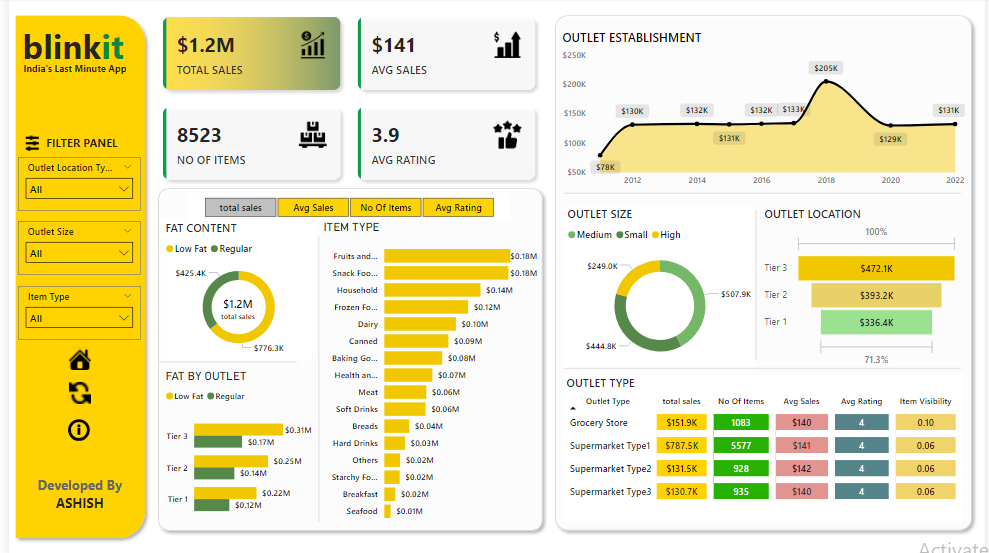

The page's visual inventory and layout, read from the dashboard file:
{"tool":"powerbi","page":{"name":"Page 1","canvas":[1400,800],"ordinal":0},"visuals":[{"type":"shape","box":[0,16.3,204.1,767.3],"z":0},{"type":"textbox","box":[14.9,29.7,171.6,85.1],"z":1000},{"type":"textbox","box":[16.2,87.8,168.9,27],"z":2000},{"type":"cardVisual","fields":{"Data":["BlinkIT Grocery Data.total sales","BlinkIT Grocery Data.Avg Sales","BlinkIT Grocery Data.No Of Items","BlinkIT Grocery Data.Avg Rating"]},"box":[204,9.6,568.7,269.9],"z":3000},{"type":"shape","box":[204.4,263.3,568.9,508.9],"z":4000},{"type":"donutChart","title":"FAT CONTENT","fields":{"Y":["BlinkIT Grocery Data.total sales"],"Category":["BlinkIT Grocery Data.Item Fat Content"]},"box":[218.9,317.8,220,200],"z":4500},{"type":"donutChart","title":"OUTLET SIZE","fields":{"Y":["BlinkIT Grocery Data.total sales"],"Category":["BlinkIT Grocery Data.Outlet Size"]},"box":[795.7,298.2,275.3,236.6],"z":5000,"group":"g1"},{"type":"slicer","fields":{"Values":["Metrics.Metrics"]},"box":[255.6,278.9,464.4,40],"z":5000},{"type":"clusteredBarChart","title":"FAT BY OUTLET","fields":{"Y":["BlinkIT Grocery Data.total sales"],"Category":["BlinkIT Grocery Data.Outlet Location Type"],"Series":["BlinkIT Grocery Data.Item Fat Content"]},"box":[218.9,532.2,220,228.9],"z":7000},{"type":"shape","box":[214.4,508.9,197.8,25.6],"z":9000},{"type":"shape","box":[439,341,11,410],"z":10000},{"type":"barChart","title":"ITEM TYPE","fields":{"Y":["BlinkIT Grocery Data.total sales"],"Category":["BlinkIT Grocery Data.Item Type"]},"box":[445.6,318.9,316.7,442.2],"z":11000},{"type":"shape","box":[774.3,16.1,615.3,756.6],"z":12000},{"type":"lineChart","title":"OUTLET ESTABLISHMENT","fields":{"Category":["BlinkIT Grocery Data.Outlet Establishment Year"],"Y":["BlinkIT Grocery Data.total sales"]},"box":[789.2,44.6,586.9,234.6],"z":13000},{"type":"shape","box":[795.5,266.4,569.1,26.4],"z":14000},{"type":"group","id":"g1","title":"Group 1","box":[795.7,298.2,275.3,236.6],"z":15000},{"type":"shape","box":[1059.5,303.9,22.9,215.1],"z":16000},{"type":"funnel","title":"OUTLET LOCATION","fields":{"Y":["BlinkIT Grocery Data.total sales"],"Category":["BlinkIT Grocery Data.Outlet Location Type"]},"box":[1078.8,298.8,287.5,235],"z":17000},{"type":"shape","box":[795.7,517.6,569.2,27.2],"z":18000},{"type":"pivotTable","title":"OUTLET TYPE","fields":{"Rows":["BlinkIT Grocery Data.Outlet Type"],"Values":["BlinkIT Grocery Data.total sales","BlinkIT Grocery Data.No Of Items","BlinkIT Grocery Data.Avg Sales","BlinkIT Grocery Data.Avg Rating","Avg(BlinkIT Grocery Data.Item Visibility)"]},"box":[794,540,573,211],"z":19000},{"type":"slicer","fields":{"Values":["BlinkIT Grocery Data.Outlet Location Type"]},"box":[13.5,227.3,176.1,76.8],"z":20000},{"type":"slicer","fields":{"Values":["BlinkIT Grocery Data.Outlet Size"]},"box":[13.5,319.9,176.1,76.8],"z":21000},{"type":"slicer","fields":{"Values":["BlinkIT Grocery Data.Item Type"]},"box":[13.5,412.5,176.1,76.8],"z":22000},{"type":"actionButton","box":[51.6,497.5,100.4,40.1],"z":23000},{"type":"actionButton","box":[51.6,546.2,100.4,40.1],"z":24000},{"type":"actionButton","box":[50.2,599.3,100.4,40.1],"z":25000},{"type":"textbox","box":[37.3,192.1,134.8,34.4],"z":26000},{"type":"image","box":[12.9,191.2,41.8,35.3],"z":27000},{"type":"textbox","box":[19.3,681.1,165.5,62.7],"z":28000},{"type":"cardVisual","fields":{"Data":["BlinkIT Grocery Data.total sales"]},"box":[265.1,409.6,126.9,65.9],"z":30000}]}

Visuals, with their boxes in screenshot pixels (x1, y1, x2, y2), scaled from the page's 1400x800 canvas onto the 989x553 screenshot:
shape: {"left": 0, "top": 11, "right": 144, "bottom": 542}
textbox: {"left": 11, "top": 21, "right": 132, "bottom": 79}
textbox: {"left": 11, "top": 61, "right": 131, "bottom": 79}
cardVisual - BlinkIT Grocery Data.total sales x BlinkIT Grocery Data.Avg Sales: {"left": 144, "top": 7, "right": 546, "bottom": 193}
shape: {"left": 144, "top": 182, "right": 546, "bottom": 534}
"FAT CONTENT" donutChart: {"left": 155, "top": 220, "right": 310, "bottom": 358}
"OUTLET SIZE" donutChart: {"left": 562, "top": 206, "right": 757, "bottom": 370}
slicer - Metrics.Metrics: {"left": 181, "top": 193, "right": 509, "bottom": 220}
"FAT BY OUTLET" clusteredBarChart: {"left": 155, "top": 368, "right": 310, "bottom": 526}
shape: {"left": 151, "top": 352, "right": 291, "bottom": 369}
shape: {"left": 310, "top": 236, "right": 318, "bottom": 519}
"ITEM TYPE" barChart: {"left": 315, "top": 220, "right": 539, "bottom": 526}
shape: {"left": 547, "top": 11, "right": 982, "bottom": 534}
"OUTLET ESTABLISHMENT" lineChart: {"left": 558, "top": 31, "right": 972, "bottom": 193}
shape: {"left": 562, "top": 184, "right": 964, "bottom": 202}
"Group 1" group: {"left": 562, "top": 206, "right": 757, "bottom": 370}
shape: {"left": 748, "top": 210, "right": 765, "bottom": 359}
"OUTLET LOCATION" funnel: {"left": 762, "top": 207, "right": 965, "bottom": 369}
shape: {"left": 562, "top": 358, "right": 964, "bottom": 377}
"OUTLET TYPE" pivotTable: {"left": 561, "top": 373, "right": 966, "bottom": 519}
slicer - BlinkIT Grocery Data.Outlet Location Type: {"left": 10, "top": 157, "right": 134, "bottom": 210}
slicer - BlinkIT Grocery Data.Outlet Size: {"left": 10, "top": 221, "right": 134, "bottom": 274}
slicer - BlinkIT Grocery Data.Item Type: {"left": 10, "top": 285, "right": 134, "bottom": 338}
actionButton: {"left": 36, "top": 344, "right": 107, "bottom": 372}
actionButton: {"left": 36, "top": 378, "right": 107, "bottom": 405}
actionButton: {"left": 35, "top": 414, "right": 106, "bottom": 442}
textbox: {"left": 26, "top": 133, "right": 122, "bottom": 157}
image: {"left": 9, "top": 132, "right": 39, "bottom": 157}
textbox: {"left": 14, "top": 471, "right": 131, "bottom": 514}
cardVisual - BlinkIT Grocery Data.total sales: {"left": 187, "top": 283, "right": 277, "bottom": 329}
